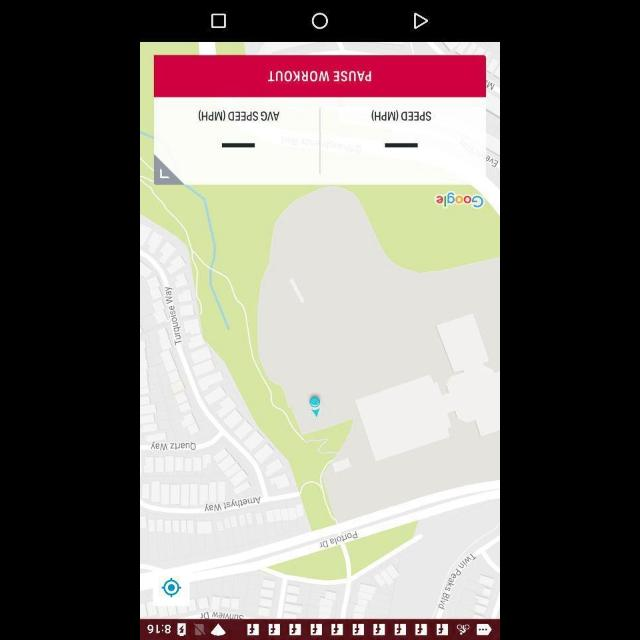icon: (162, 578, 180, 598), (311, 12, 329, 30), (210, 12, 227, 30), (413, 12, 429, 30)
map: (141, 43, 499, 619)
panel: (141, 1, 499, 41)
text: (268, 69, 372, 81), (195, 108, 282, 122), (367, 108, 435, 124)
textbutton: (154, 56, 486, 98)
uppertaskbar: (142, 620, 498, 640)
